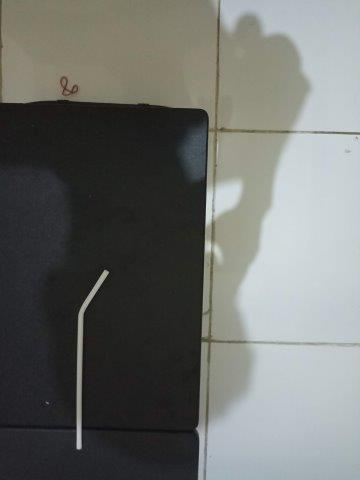karet: (59, 76, 79, 97)
sedotan: (75, 270, 109, 449)
